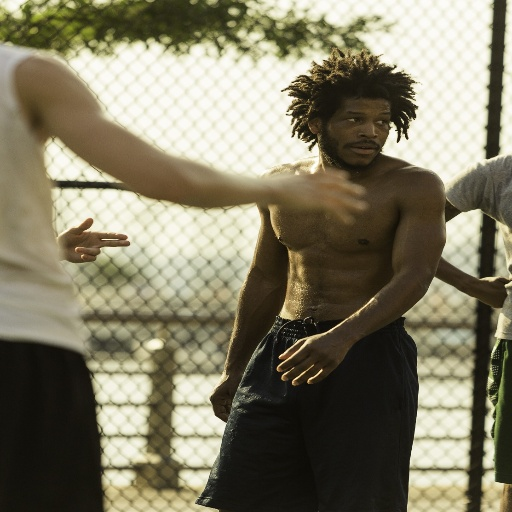hand: (259, 166, 369, 226), (275, 332, 350, 387), (52, 221, 125, 262), (209, 376, 242, 424), (472, 275, 511, 308)
